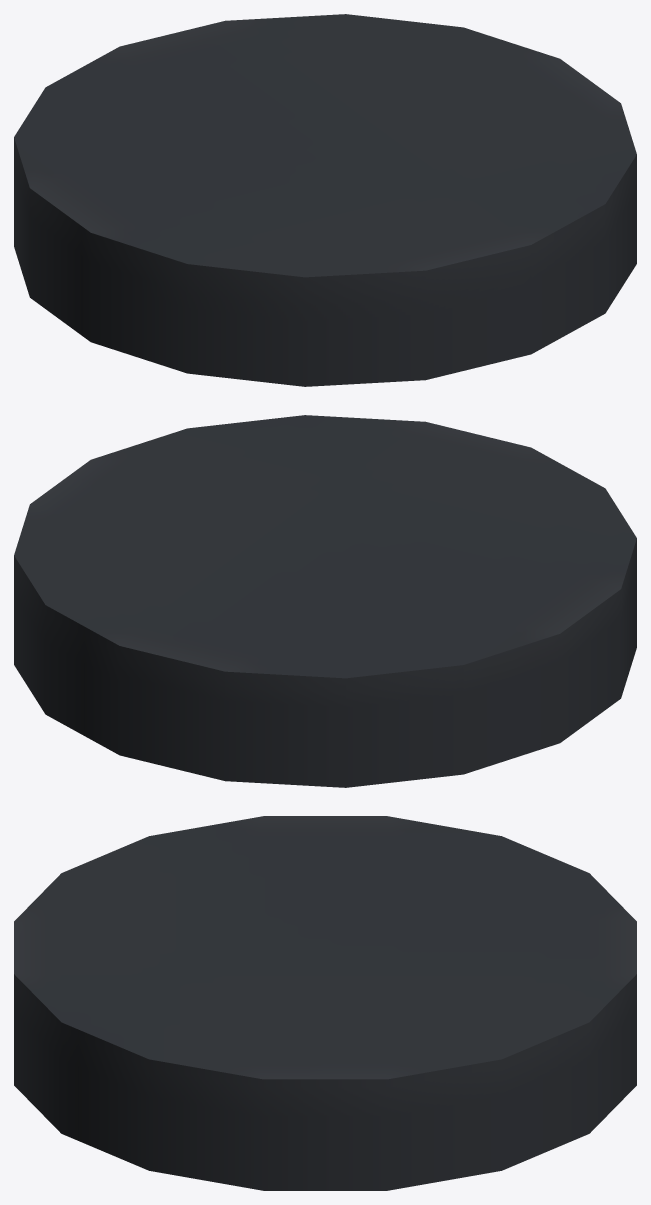
The model's file is post_se_up.obj.
3 renders of one model, top to bottom at view 1: azimuth 30°, elevation 25°; view 2: azimuth 150°, elevation 25°; view 3: azimuth 270°, elevation 25°, orthographic.
Parts seen in each view (by area): view 1: post_se_up__post_se_up; view 2: post_se_up__post_se_up; view 3: post_se_up__post_se_up.
Boxes of the visible parts, left/top/right/bottom form: post_se_up__post_se_up: left=14, top=14, right=636, bottom=386; post_se_up__post_se_up: left=14, top=415, right=636, bottom=787; post_se_up__post_se_up: left=14, top=816, right=636, bottom=1190.
Size of the model in its own units: 0.19 by 0.0375 by 0.19.
